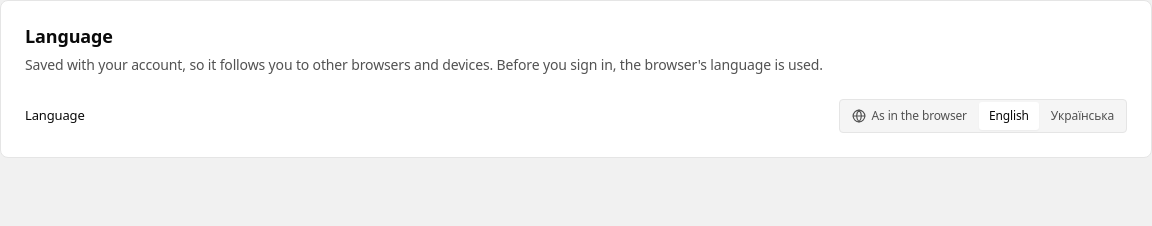
Test: LanguageCard › goes back to the saved choice and says why when the save fails
Click the radio button labelled "Українська" at point(1082, 115), box [1051,106,1114,124]
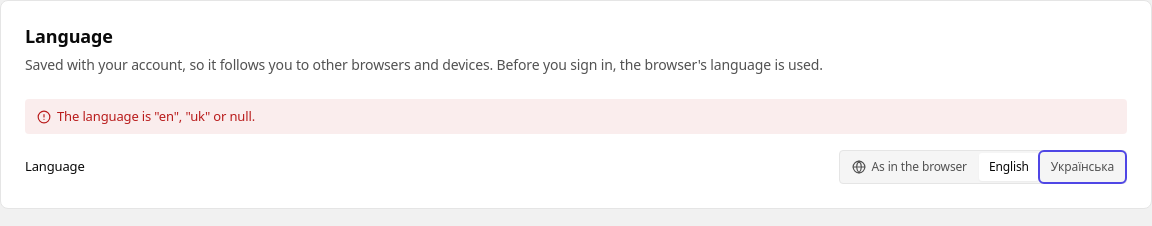
expect the radio button labelled "English" is checked: met, box [979,153,1039,181]
expect the text "The language is \"en\", \"uk\" or null." is shown: met, box [57,106,255,124]
